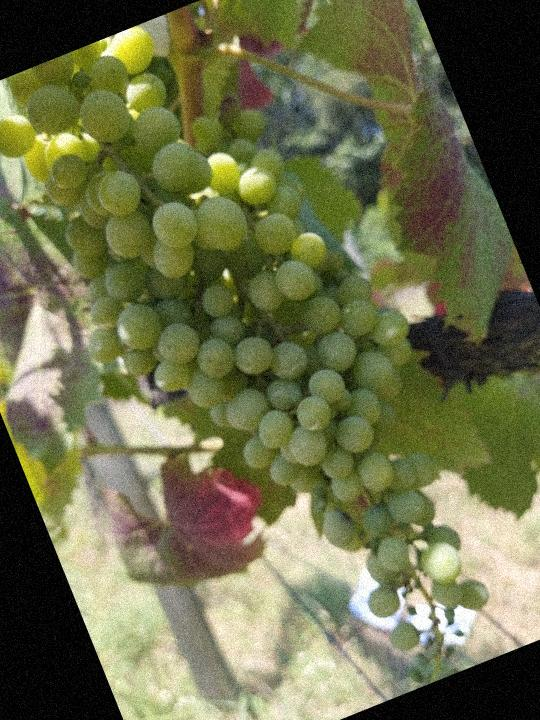grape: (0, 0, 533, 720)
